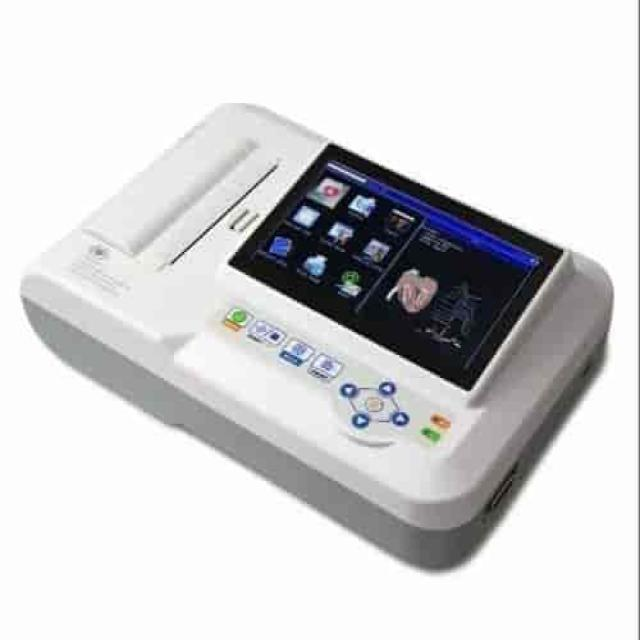Monitor: (18, 98, 614, 572)
